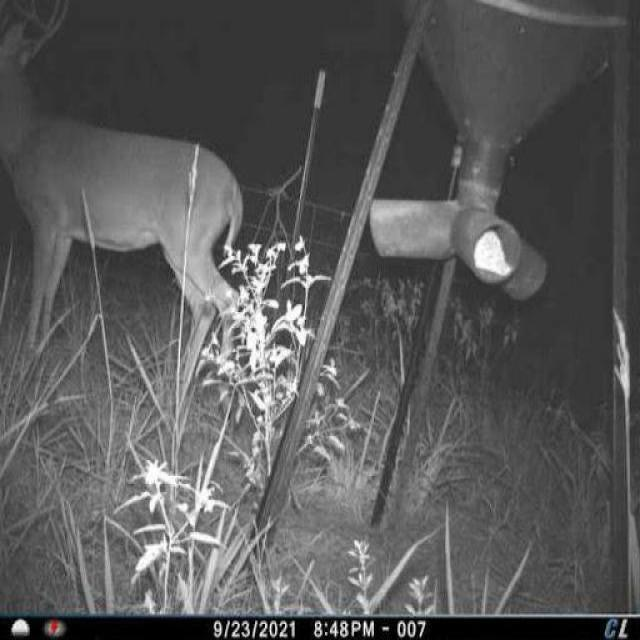deer: (2, 0, 266, 427)
